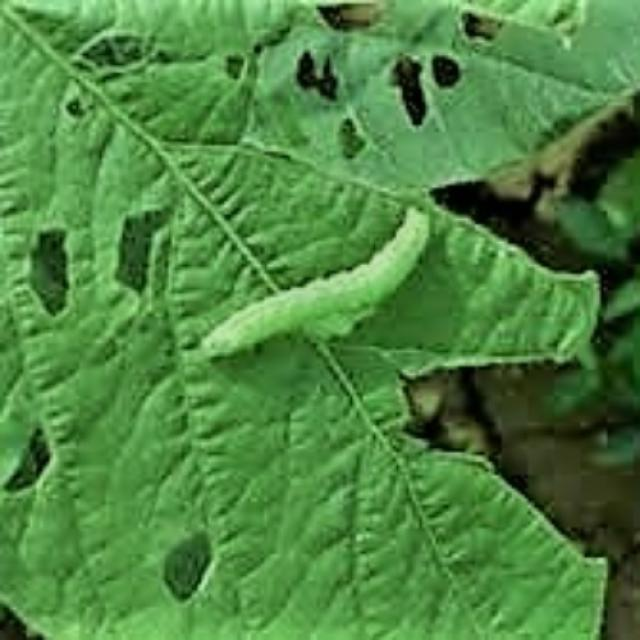armyworm: (201, 207, 434, 361)
